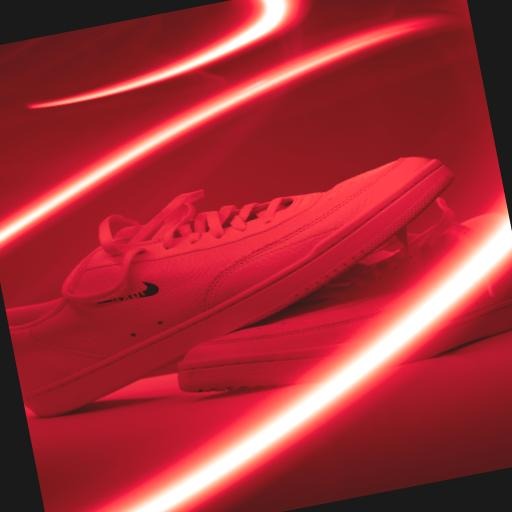shoe: (6, 157, 452, 416), (178, 199, 499, 392)
